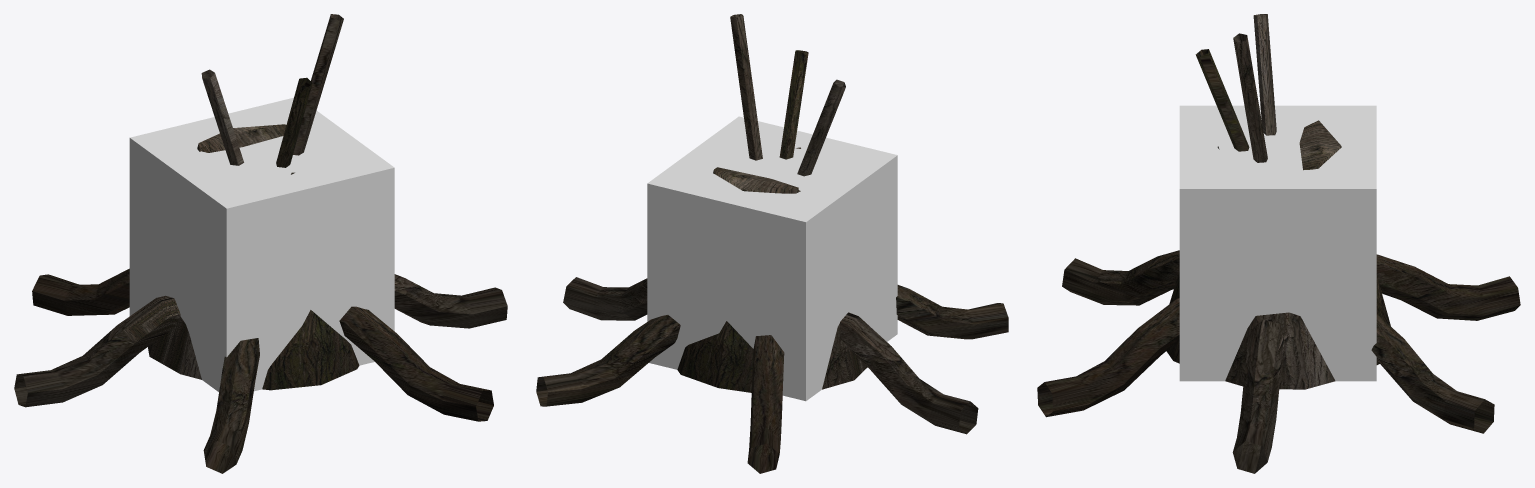
Rendered from dead_stump_blighted.glb.
The picture shows the model from 3 angles, left to right: view 1: azimuth 30°, elevation 25°; view 2: azimuth 150°, elevation 25°; view 3: azimuth 270°, elevation 25°; orthographic projection. The views are drawn at different scales.
Visible parts, largest first — view 1: col_block_stump, dead_stump_blighted; view 2: col_block_stump, dead_stump_blighted; view 3: col_block_stump, dead_stump_blighted.
Boxes of the visible parts, x1,y1,x2,y2 form: col_block_stump: (129, 97, 394, 391); dead_stump_blighted: (14, 14, 507, 473); col_block_stump: (647, 116, 897, 401); dead_stump_blighted: (536, 14, 1008, 473); col_block_stump: (1179, 105, 1376, 381); dead_stump_blighted: (1037, 14, 1520, 473).
Bounding box in the file's own units: 3.5 × 2.59 × 3.19.
Materials: 1 (1 with a texture image).
